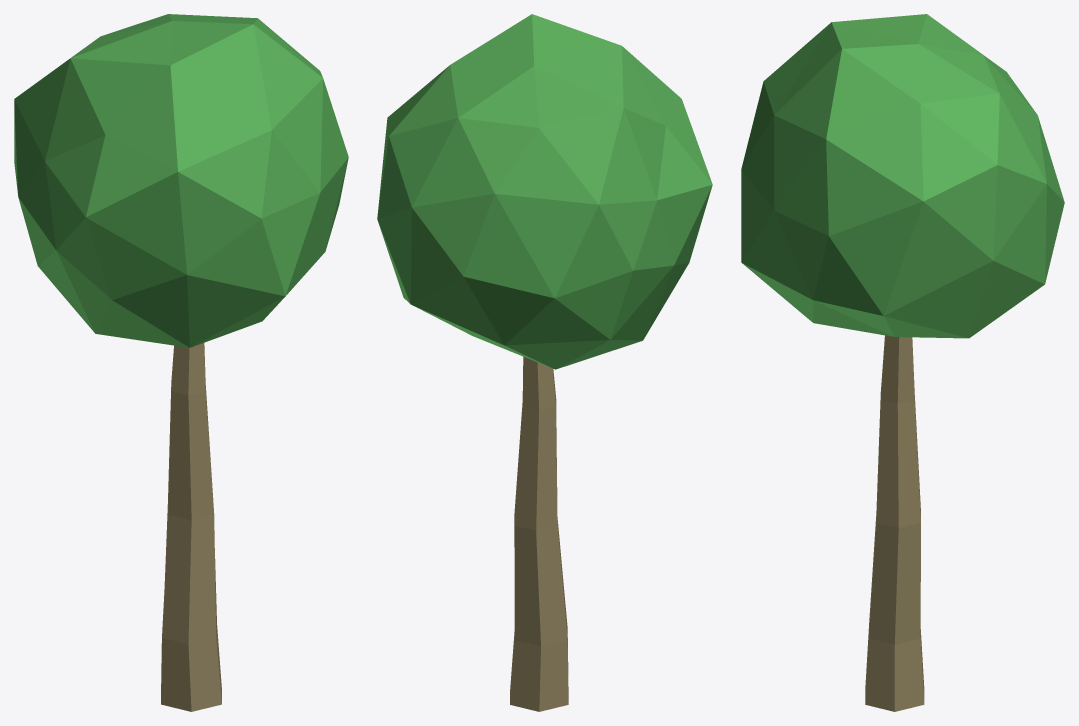
Rendered from tree2.fbx.
3 views of the same model, side by side, from view 1: azimuth 30°, elevation 25°; view 2: azimuth 150°, elevation 25°; view 3: azimuth 270°, elevation 25° (orthographic). The views are drawn at different scales.
Parts seen in each view (by area): view 1: pCylinder4; view 2: pCylinder4; view 3: pCylinder4.
Part boxes in pixels (<box>): pCylinder4: <box>14,14,348,711</box>; pCylinder4: <box>377,14,712,711</box>; pCylinder4: <box>741,14,1064,711</box>.
Bounding box in the file's own units: 9.41 × 21.46 × 9.46.
